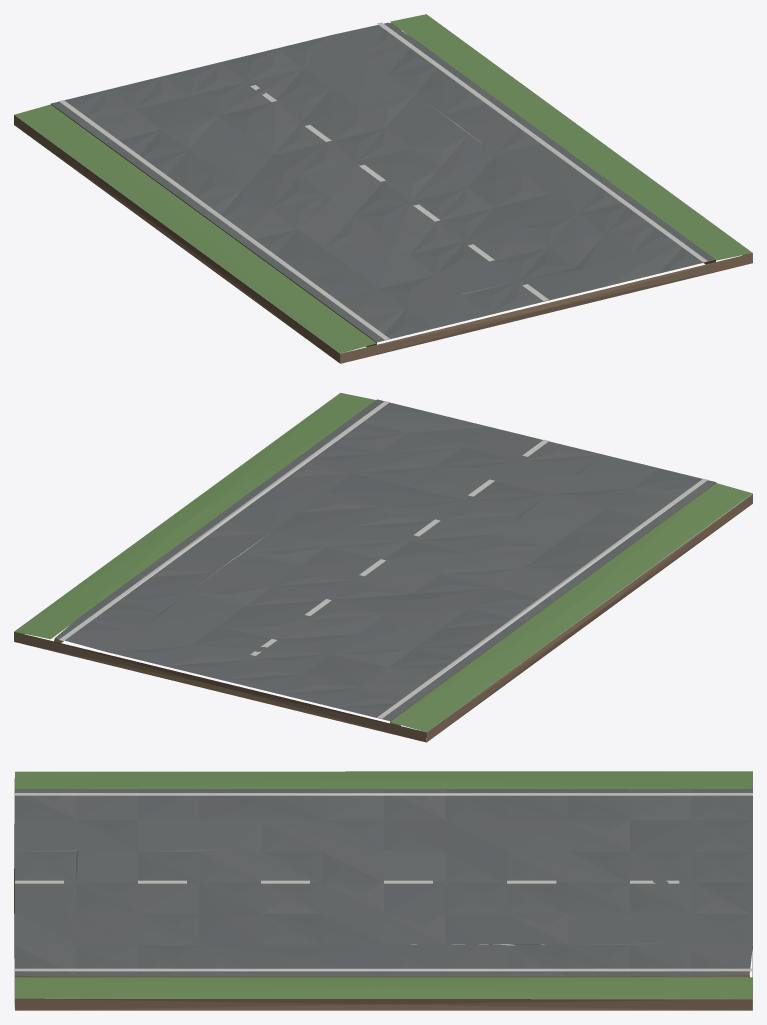
The model's file is asphalt_straight.glb.
The picture shows the model from 3 angles, top to bottom: view 1: azimuth 30°, elevation 25°; view 2: azimuth 150°, elevation 25°; view 3: azimuth 270°, elevation 25°; orthographic projection. The views are drawn at different scales.
Parts seen in each view (by area): view 1: Body.004; view 2: Body.004; view 3: Body.004.
Boxes of the visible parts, <box> form: Body.004: <box>14,14,752,363</box>; Body.004: <box>14,392,752,742</box>; Body.004: <box>14,771,752,1010</box>.
Size of the model in its own units: 7.3 by 0.229 by 10.
